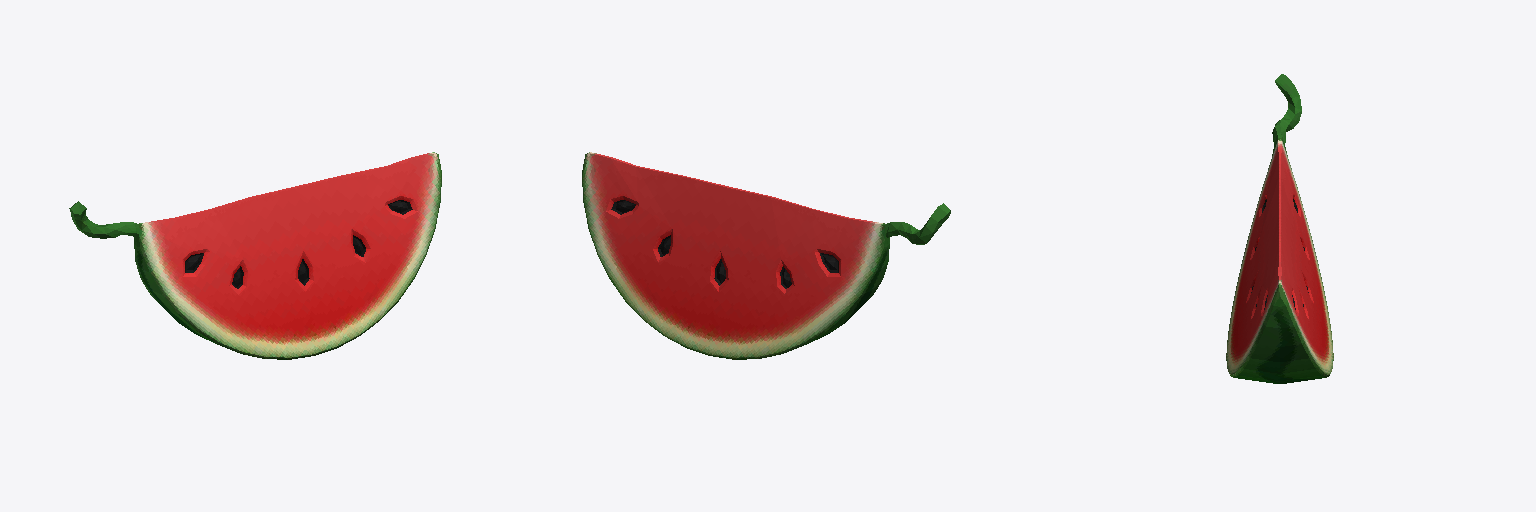
The picture shows the model from 3 angles: view 1: azimuth 30°, elevation 25°; view 2: azimuth 150°, elevation 25°; view 3: azimuth 270°, elevation 25°; orthographic projection.
Visible parts, largest first — view 1: Watermelon; view 2: Watermelon; view 3: Watermelon.
Boxes of the visible parts, x1,y1,x2,y2 form: Watermelon: [69, 152, 441, 359]; Watermelon: [582, 152, 950, 359]; Watermelon: [1226, 74, 1333, 383].
Bounding box in the file's own units: 0.3497 × 0.1749 × 0.0883.
Materials: 1 (1 with a texture image).